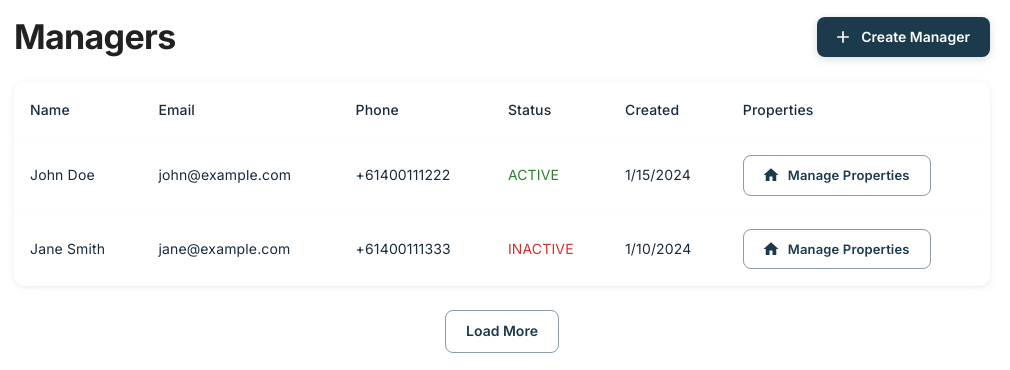
Test case: AdminManagers › shows loading state while loading more managers
This screenshot has width=1010, height=370.
What coordinates should you click on to do the following:
click the button "Load More"
I would click on:
 (502, 332)
Its box is [445,310,559,353].
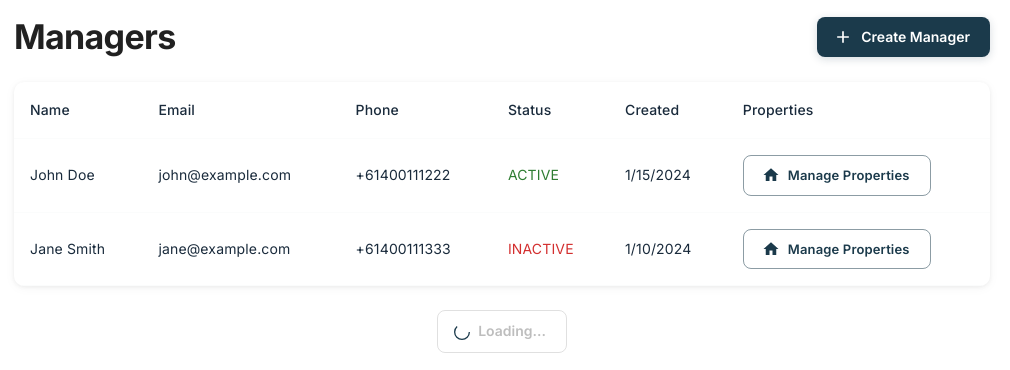
expect the button "Loading..." is disabled: met, box [437,310,567,353]
